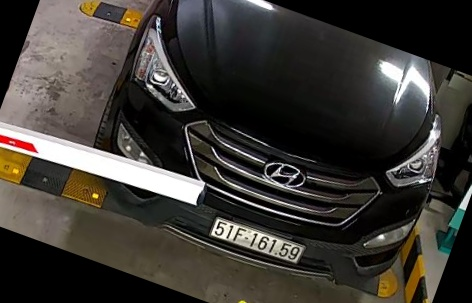plate: (198, 211, 310, 272)
